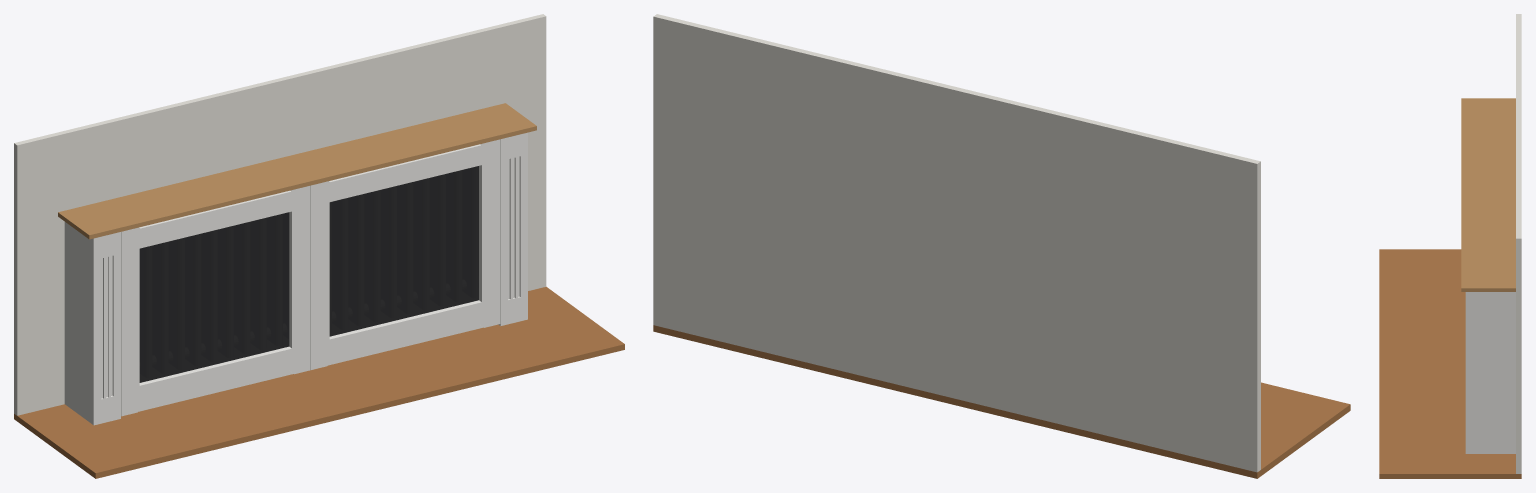
File: a-gzy52f.glb
The picture shows the model from 3 angles, left to right: view 1: azimuth 30°, elevation 25°; view 2: azimuth 150°, elevation 25°; view 3: azimuth 270°, elevation 25°; orthographic projection. The views are drawn at different scales.
Visible parts, largest first — view 1: Room: Wall, Room: Floor, Radiator cover: Door, left: Mesh, Radiator cover: Door, right: Mesh, Radiator cover: Top, oak, Radiator cover: Door, right: Frame, Radiator cover: Door, left: Frame, Radiator cover: Side, left, Radiator cover: Column, right: Fluted face, Radiator cover: Column, left: Fluted face, Radiator cover: Rail behind the doors, bottom, Radiator cover: Column, left: Board (+1 smaller); view 2: Room: Wall, Room: Floor; view 3: Room: Floor, Radiator cover: Top, oak, Radiator cover: Side, right, Room: Wall, Radiator cover: Column, right: Board, Radiator cover: Column, right: Fluted face.
Boxes of the visible parts, box(x1,y1,x2,y2) form: Room: Wall: box(14, 14, 546, 415); Room: Floor: box(14, 286, 624, 478); Radiator cover: Door, left: Mesh: box(139, 212, 289, 382); Radiator cover: Door, right: Mesh: box(329, 166, 478, 336); Radiator cover: Top, oak: box(58, 103, 536, 239); Radiator cover: Door, right: Frame: box(310, 139, 500, 369); Radiator cover: Door, left: Frame: box(121, 185, 310, 416); Radiator cover: Side, left: box(64, 222, 90, 422); Radiator cover: Column, right: Fluted face: box(499, 132, 527, 325); Radiator cover: Column, left: Fluted face: box(93, 232, 120, 425); Radiator cover: Rail behind the doors, bottom: box(138, 324, 482, 411); Radiator cover: Column, left: Board: box(91, 238, 112, 424); Room: Wall: box(653, 14, 1260, 472); Room: Floor: box(653, 325, 1350, 478); Room: Floor: box(1379, 249, 1521, 478); Radiator cover: Top, oak: box(1461, 98, 1515, 291); Radiator cover: Side, right: box(1470, 292, 1515, 453); Room: Wall: box(1516, 14, 1521, 473); Radiator cover: Column, right: Board: box(1467, 292, 1470, 453); Radiator cover: Column, right: Fluted face: box(1465, 292, 1467, 453).
Size of the model in its own units: 1.95 by 0.97 by 0.52.
